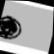correct: (0, 9, 26, 47)
